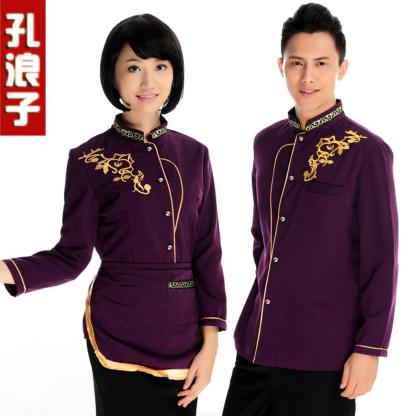face: (286, 28, 341, 110), (118, 40, 176, 113)
